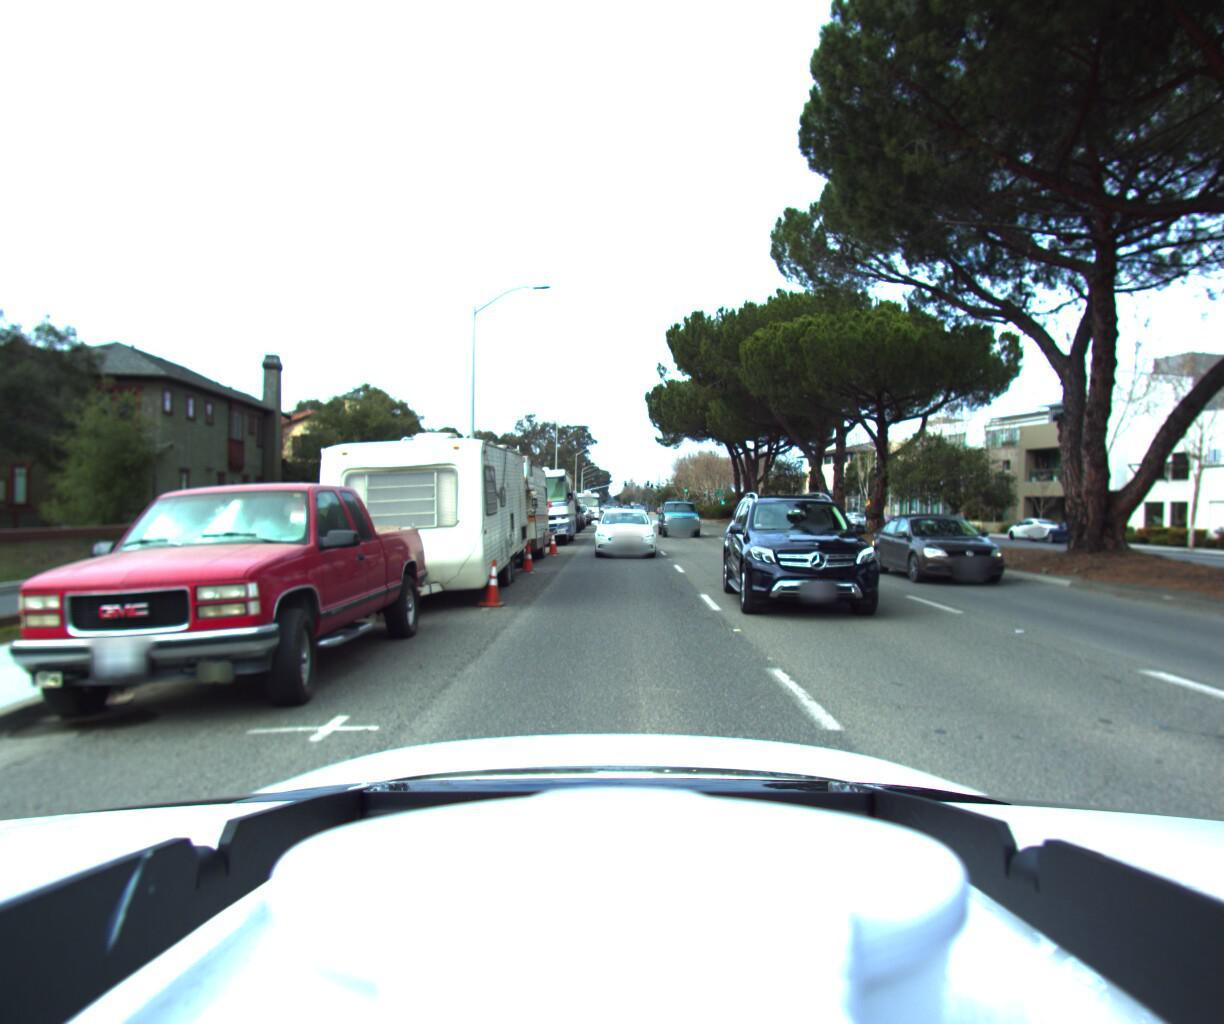car: (715, 481, 897, 635), (878, 507, 1047, 590), (590, 504, 653, 557), (1036, 516, 1117, 546), (538, 487, 579, 535), (656, 497, 702, 539), (999, 516, 1066, 543), (871, 513, 907, 529)
other_vehicle: (276, 375, 529, 620), (413, 450, 554, 570), (495, 463, 575, 548)
